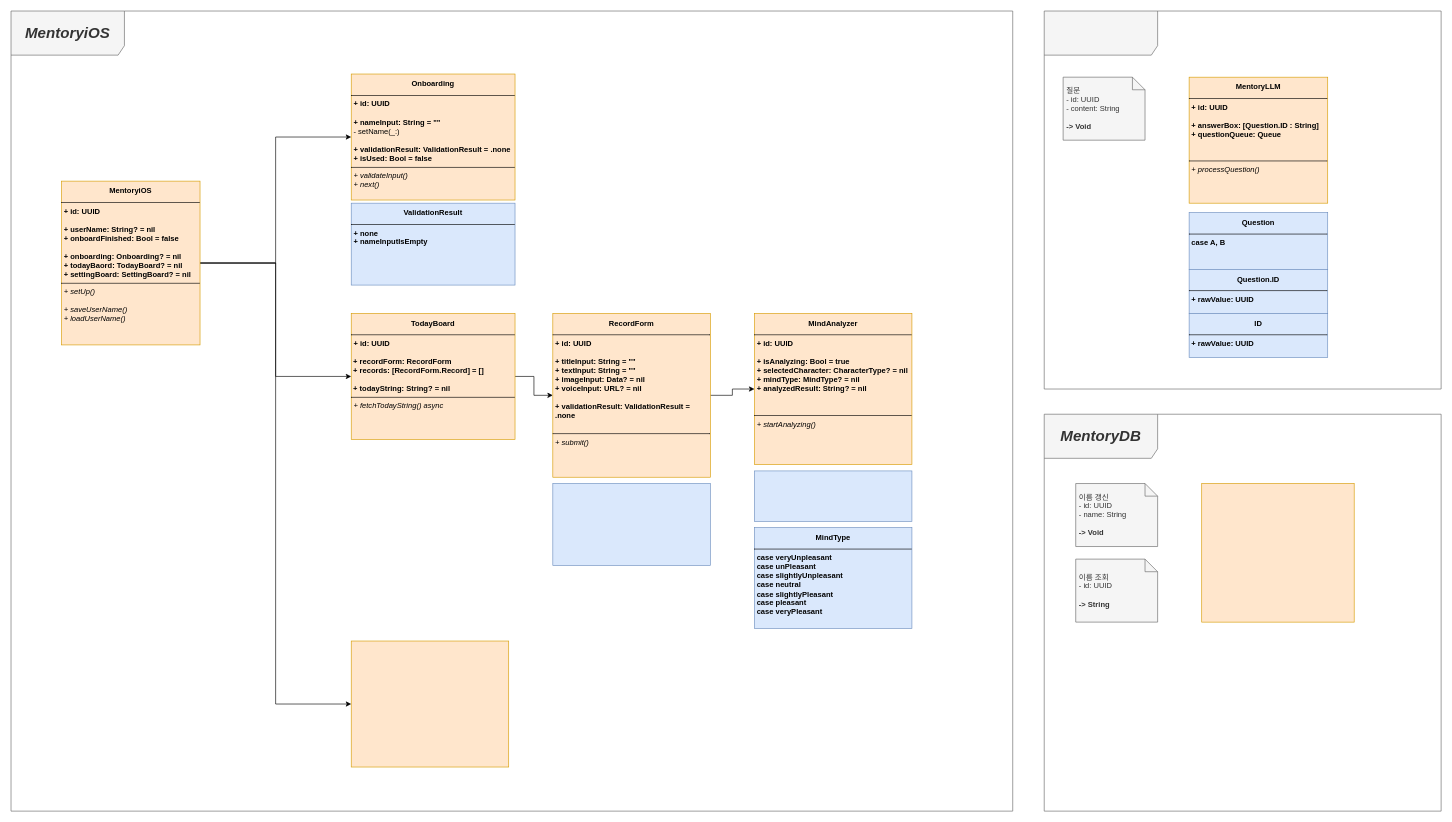
Some shapes in this 1452 by 822 pixel diagram are drawn without their labels. The box of each missing label's shape, as (x1, y1, x2, y2) in pixels:
CharacterType case A, B: (754, 470, 912, 521)
MentoryDB + id: UUID + userName: String? = nil: (1201, 483, 1354, 622)
MentoryLLM: (1044, 10, 1441, 389)
SettingBoard + id: UUID +: (351, 640, 509, 767)
ValidationResult case none case titleInputIsEmpty case contentsInputIsEmpty: (552, 483, 710, 565)
